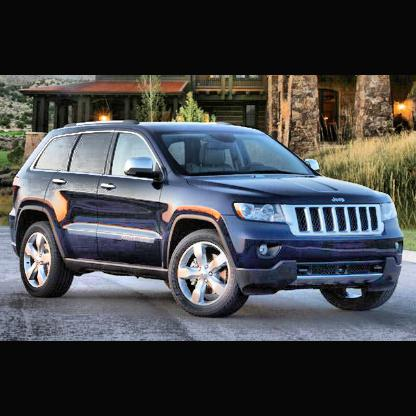Jeep Grand Cherokee SUV 2012: (11, 120, 405, 320)
